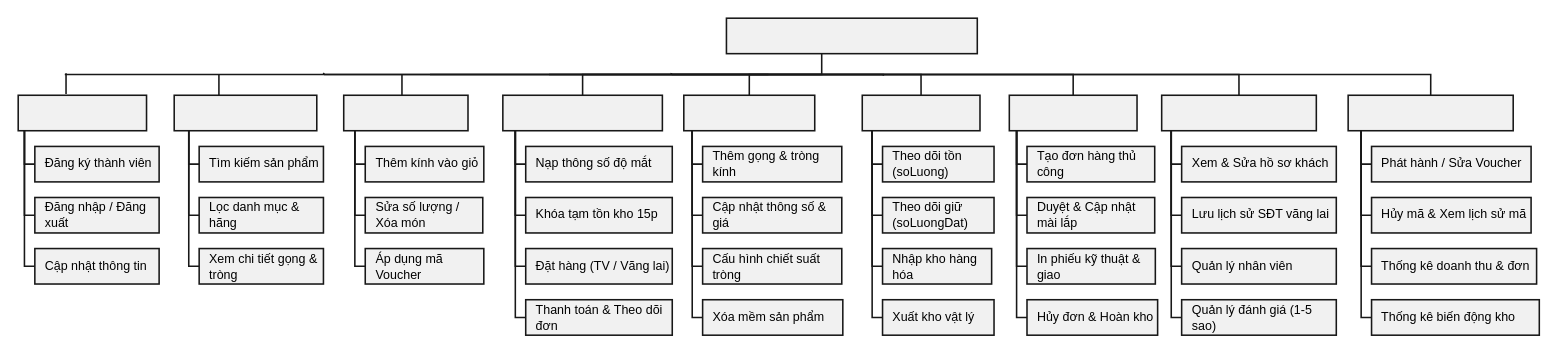
This 1559x355 diagram has some shape labels left out. The centre of each missing label's shape, as x and y in pixels:
Khuyến mãi & Thống kê: the point at 1430,112
Quản lý giỏ hàng: the point at 405,112
Quản lý KH & Nhân sự: the point at 1238,112
Quản lý sản phẩm: the point at 749,112
Quản lý tài khoản: the point at 82,112
Quản lý tồn kho: the point at 920,112
Quản lý website kinh doanh mắt kính: the point at 851,35
Quản lý đơn hàng: the point at 1072,112
Tra cứu & Xem kính: the point at 245,112
Đặt hàng & Thanh toán: the point at 582,112
